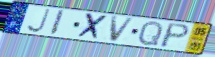I: (48, 9, 66, 37)
J: (25, 8, 52, 33)
P: (158, 22, 192, 49)
Q: (137, 20, 164, 47)
V: (109, 15, 137, 43)
X: (75, 12, 110, 42)
